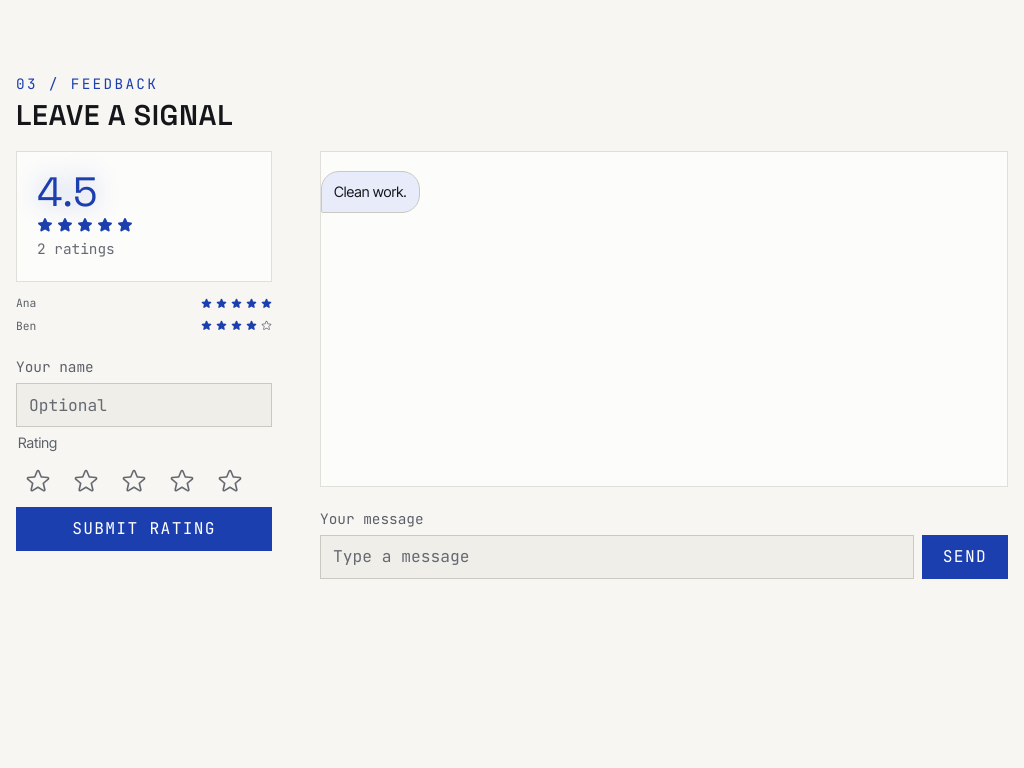
Test: CyberFeedback › refuses an empty message
Expected: the list item "Clean work." is shown, [321,172,420,213]
Click the button "Send" at point(965, 557), box [922,535,1008,579]
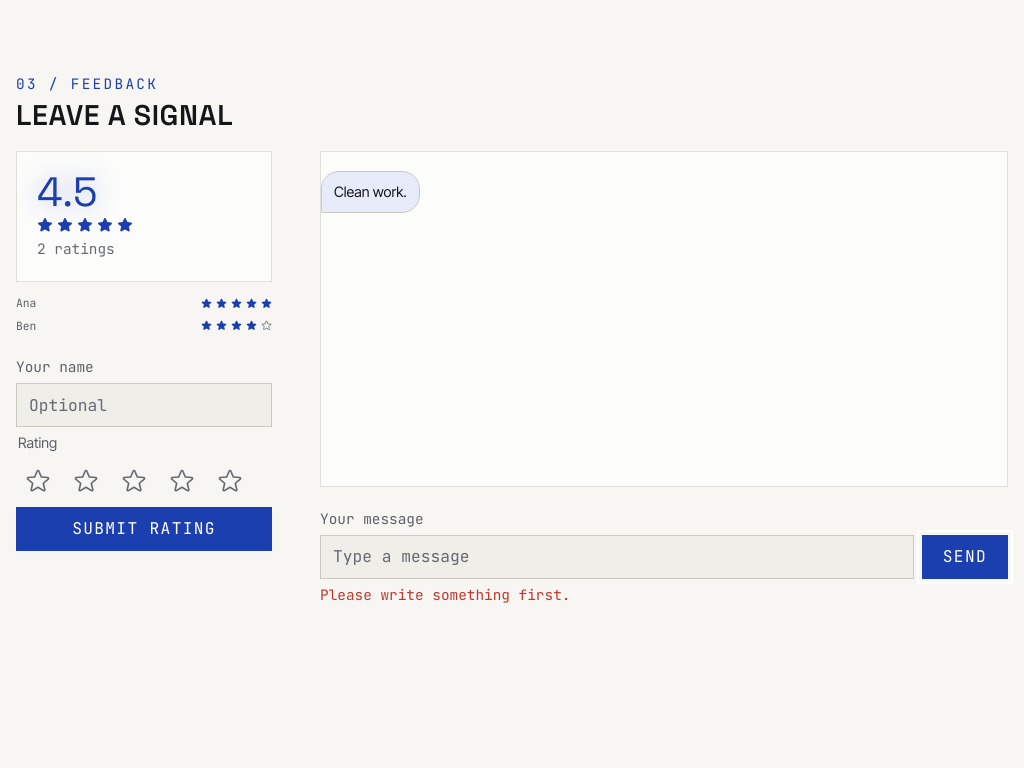
Expected: the message shows "write something", [320,585,570,604]
